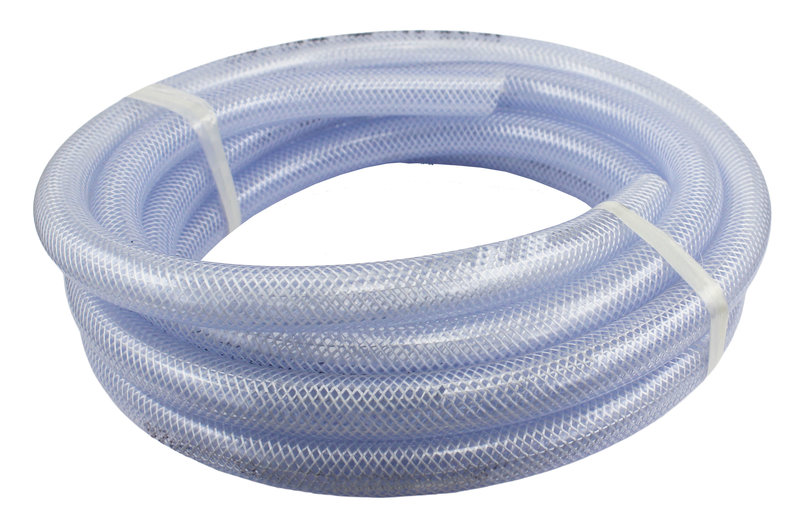Nonrec_Tangler: (1, 6, 759, 485)
